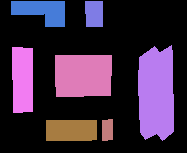parkingspot: (151, 45, 173, 140), (138, 46, 160, 139), (12, 47, 32, 112), (55, 55, 111, 76), (55, 75, 110, 96), (46, 120, 96, 140), (44, 1, 64, 26), (85, 1, 102, 26), (11, 1, 43, 14), (102, 119, 112, 140)
